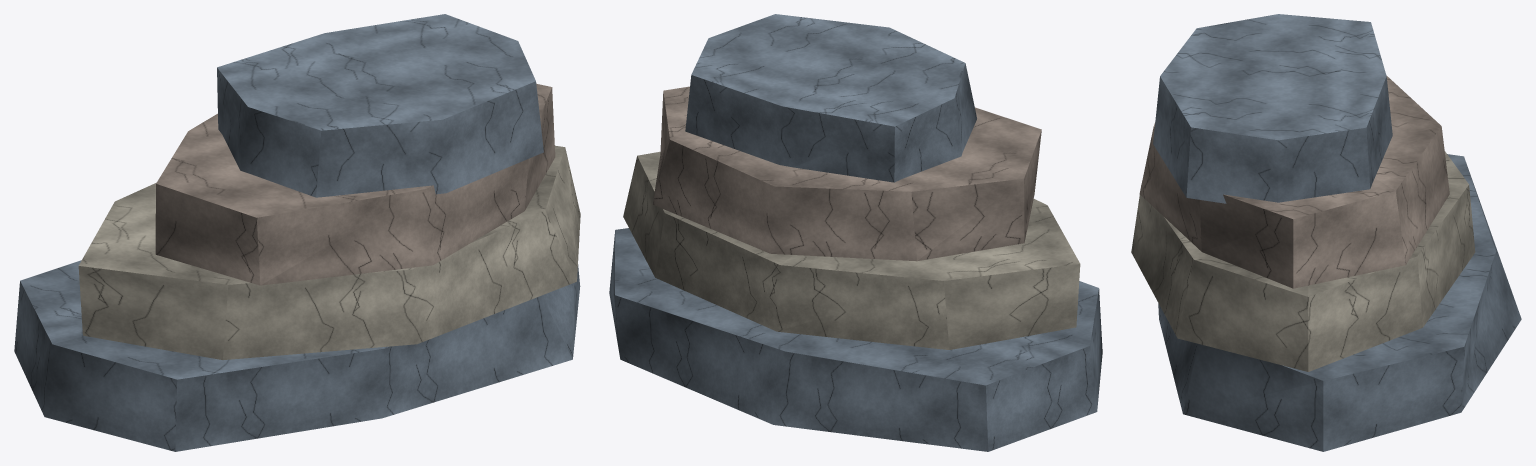
Rendered from layered_shelf.glb.
3 views of the same model, side by side, from view 1: azimuth 30°, elevation 25°; view 2: azimuth 150°, elevation 25°; view 3: azimuth 270°, elevation 25° (orthographic). The views are drawn at different scales.
Parts seen in each view (by area): view 1: DL008_LayeredSedimentShelf_stone_blue, DL008_LayeredSedimentShelf_sediment, DL008_LayeredSedimentShelf_stone_warm; view 2: DL008_LayeredSedimentShelf_stone_blue, DL008_LayeredSedimentShelf_sediment, DL008_LayeredSedimentShelf_stone_warm; view 3: DL008_LayeredSedimentShelf_stone_blue, DL008_LayeredSedimentShelf_sediment, DL008_LayeredSedimentShelf_stone_warm.
Part boxes in pixels (x1=…): DL008_LayeredSedimentShelf_stone_blue: x1=14, y1=14, x2=580, y2=451; DL008_LayeredSedimentShelf_sediment: x1=78, y1=145, x2=580, y2=359; DL008_LayeredSedimentShelf_stone_warm: x1=155, y1=83, x2=555, y2=285; DL008_LayeredSedimentShelf_stone_blue: x1=609, y1=14, x2=1102, y2=451; DL008_LayeredSedimentShelf_sediment: x1=623, y1=151, x2=1080, y2=349; DL008_LayeredSedimentShelf_stone_warm: x1=653, y1=86, x2=1041, y2=261; DL008_LayeredSedimentShelf_stone_blue: x1=1153, y1=14, x2=1521, y2=451; DL008_LayeredSedimentShelf_sediment: x1=1131, y1=151, x2=1475, y2=371; DL008_LayeredSedimentShelf_stone_warm: x1=1139, y1=75, x2=1449, y2=288.
Bounding box in the file's own units: 3.17 × 1.6 × 2.08.
Materials: 3 (3 with a texture image).
